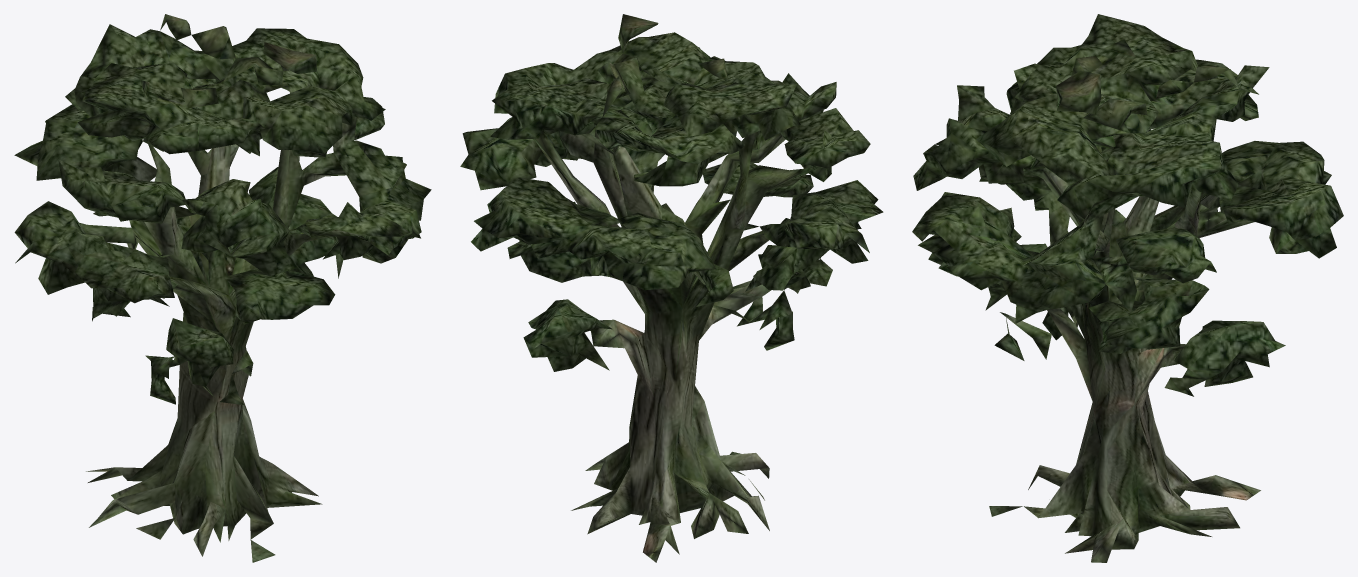
Rendered from tree.glb.
3 renders of one model, left to right at view 1: azimuth 30°, elevation 25°; view 2: azimuth 150°, elevation 25°; view 3: azimuth 270°, elevation 25°, orthographic. The views are drawn at different scales.
Parts seen in each view (by area): view 1: Mesh_0; view 2: Mesh_0; view 3: Mesh_0.
Boxes of the visible parts, x1,y1,x2,y2 form: Mesh_0: (14, 14, 431, 562); Mesh_0: (460, 14, 883, 562); Mesh_0: (912, 14, 1343, 562).
Size of the model in its own units: 1.63 by 1.85 by 1.56.
Materials: 1 (1 with a texture image).
